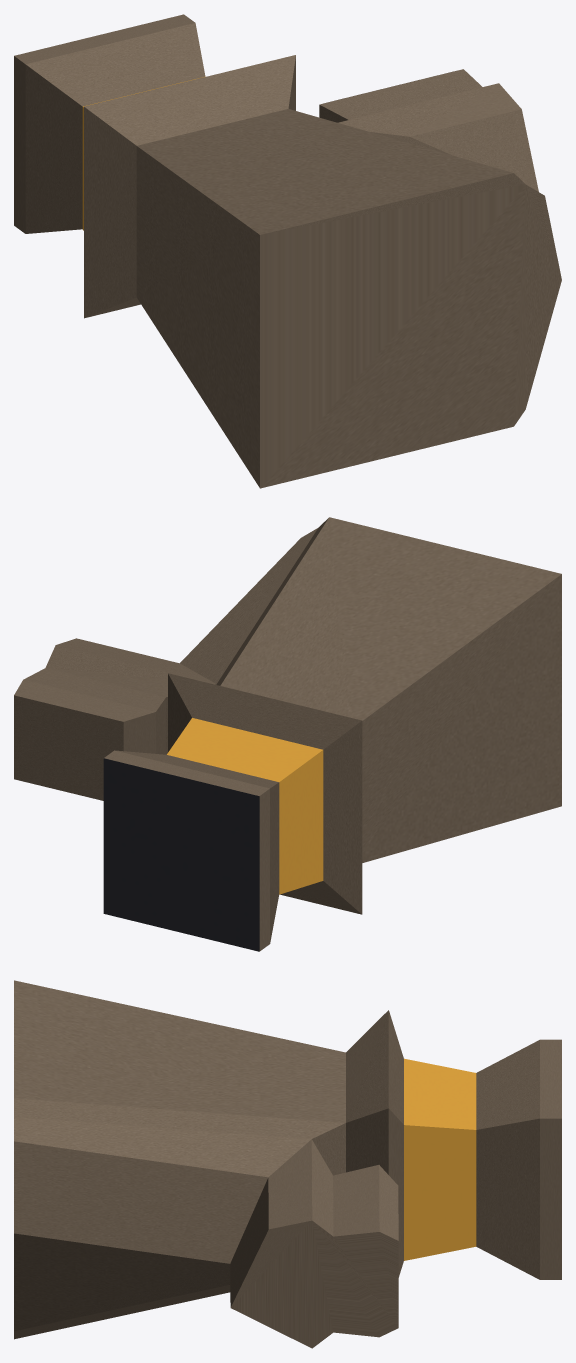
The model's file is death_desert_gate.fbx.
The picture shows the model from 3 angles, top to bottom: view 1: azimuth 30°, elevation 25°; view 2: azimuth 150°, elevation 25°; view 3: azimuth 270°, elevation 25°; orthographic projection. The views are drawn at different scales.
Parts seen in each view (by area): view 1: desert_castle; view 2: desert_castle; view 3: desert_castle.
Boxes of the visible parts, x1,y1,x2,y2 form: desert_castle: (14,14,561,488); desert_castle: (14,517,561,951); desert_castle: (14,980,561,1348).
Bounding box in the file's own units: 271 × 166 × 342.
